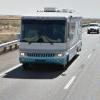Bus: (16, 12, 85, 67)
